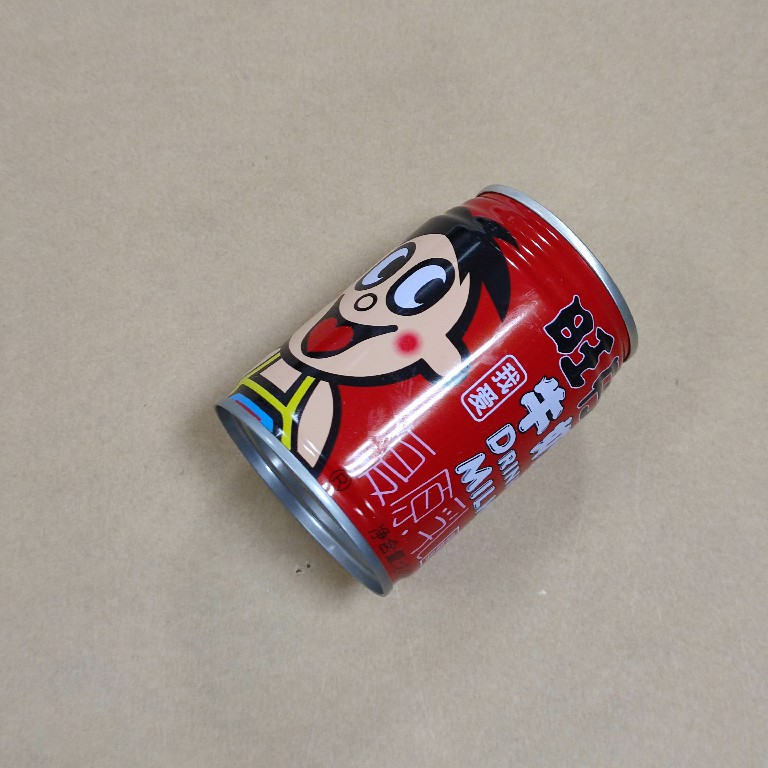can: (207, 181, 645, 601)
